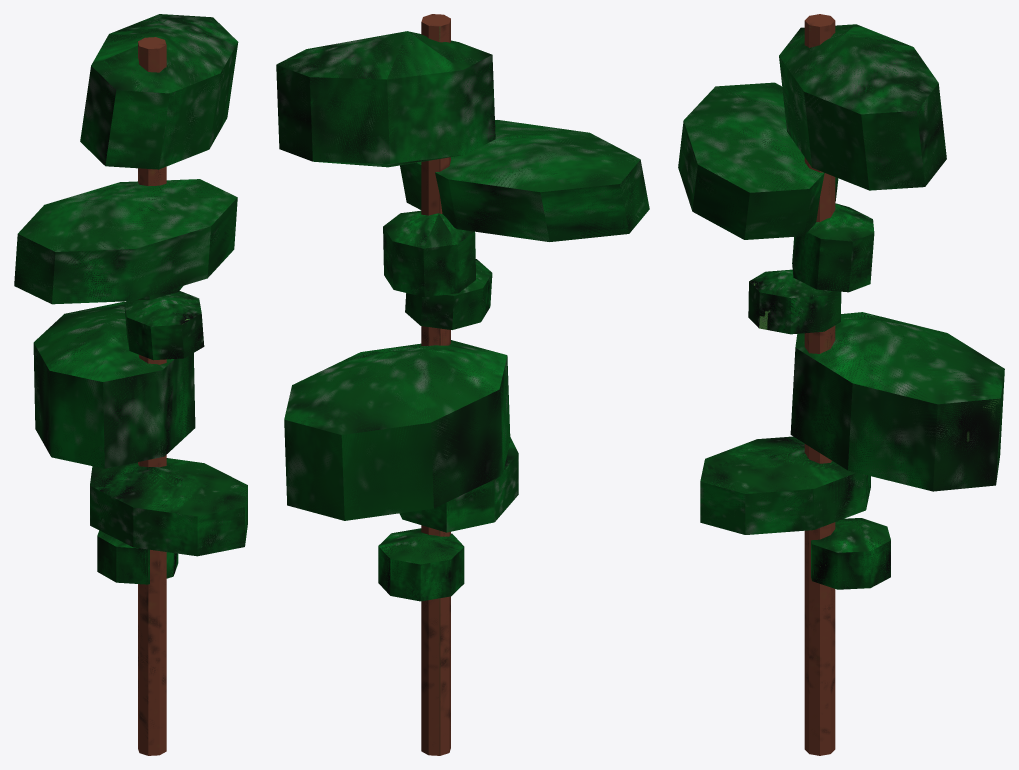
Rendered from tree3.fbx.
3 renders of one model, left to right at view 1: azimuth 30°, elevation 25°; view 2: azimuth 150°, elevation 25°; view 3: azimuth 270°, elevation 25°, orthographic. The views are drawn at different scales.
Parts seen in each view (by area): view 1: pCylinder7, pCylinder6, pCylinder4, pCylinder3, trunk1, pCylinder5, pCylinder2; view 2: pCylinder6, pCylinder4, pCylinder7, trunk1, pCylinder8, pCylinder2, pCylinder3, pCylinder5; view 3: pCylinder6, pCylinder4, pCylinder7, pCylinder3, trunk1, pCylinder8, pCylinder2, pCylinder5.
Part boxes in pixels (x1,y1,x2,y2): pCylinder7: [14, 179, 237, 304]; pCylinder6: [33, 301, 195, 468]; pCylinder4: [80, 14, 238, 169]; pCylinder3: [90, 458, 247, 556]; trunk1: [138, 37, 166, 755]; pCylinder5: [124, 291, 204, 360]; pCylinder2: [97, 530, 178, 584]; pCylinder6: [284, 340, 510, 520]; pCylinder4: [276, 31, 495, 167]; pCylinder7: [400, 120, 649, 241]; trunk1: [421, 14, 450, 755]; pCylinder8: [383, 210, 475, 297]; pCylinder2: [378, 528, 464, 601]; pCylinder3: [399, 437, 518, 532]; pCylinder5: [405, 259, 492, 329]; pCylinder6: [790, 312, 1004, 491]; pCylinder4: [779, 24, 946, 190]; pCylinder7: [678, 82, 838, 239]; pCylinder3: [700, 436, 870, 534]; trunk1: [804, 14, 835, 755]; pCylinder8: [792, 203, 874, 292]; pCylinder2: [811, 518, 890, 589]; pCylinder5: [748, 269, 841, 334].
Bounding box in the file's own units: 4.32 × 10.78 × 4.38.
Materials: 2 (2 with a texture image).
